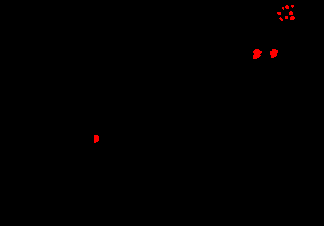Target: (253, 49, 262, 59), (270, 49, 278, 58), (94, 135, 99, 143), (290, 16, 295, 20), (285, 5, 289, 9), (289, 11, 293, 15), (279, 17, 283, 21), (277, 12, 281, 15), (291, 5, 294, 8), (285, 16, 288, 19), (282, 7, 284, 10)
